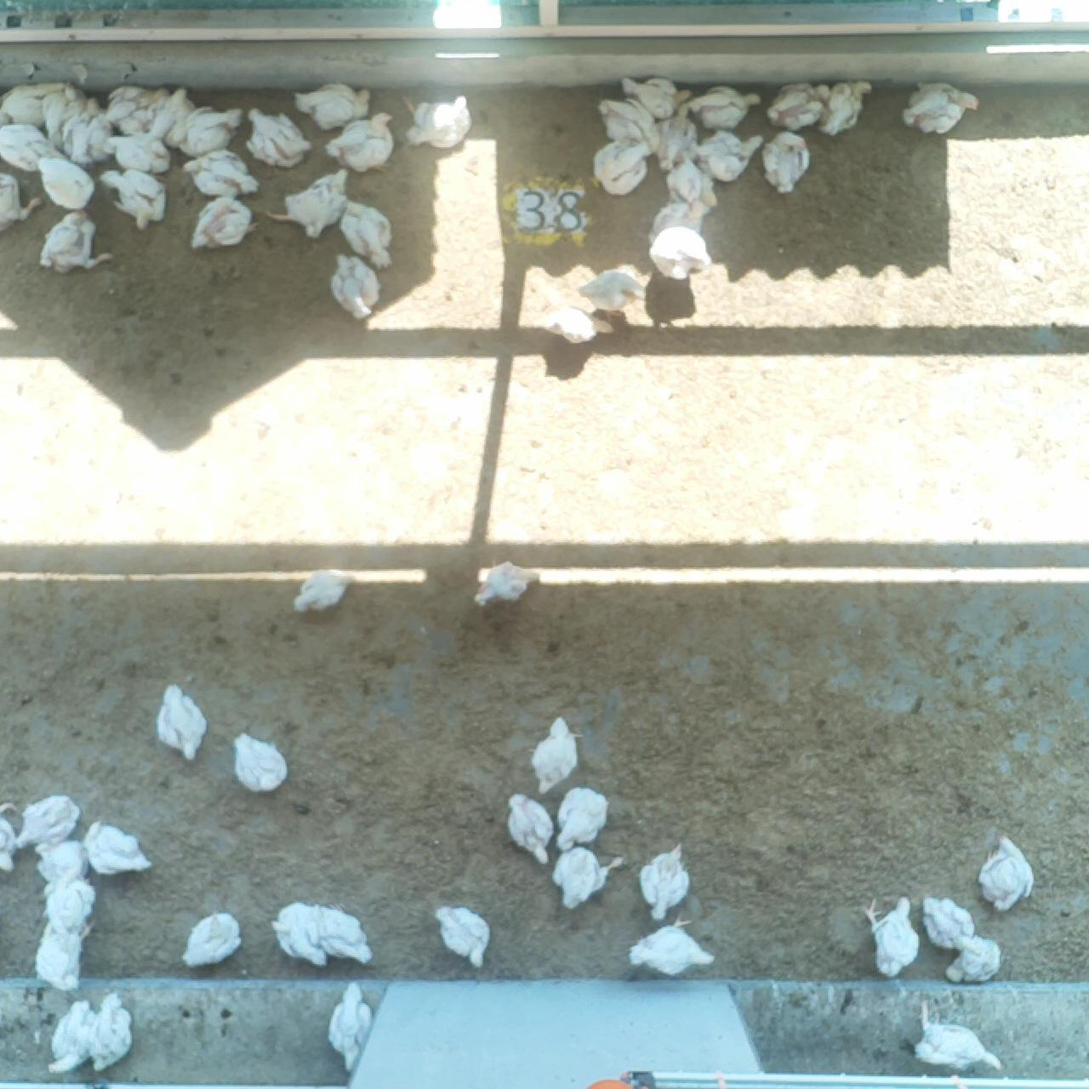chicken: (912, 1002, 1007, 1072), (624, 914, 718, 976), (278, 168, 350, 242), (152, 679, 215, 763), (638, 223, 718, 288), (397, 91, 483, 151), (865, 889, 922, 979), (551, 844, 624, 910), (905, 76, 982, 138), (307, 904, 381, 966), (974, 835, 1035, 910), (38, 213, 113, 274), (269, 900, 329, 975), (547, 783, 610, 854), (45, 992, 96, 1078), (325, 110, 395, 172), (326, 250, 383, 326), (243, 109, 316, 168), (639, 843, 694, 921), (327, 977, 371, 1072), (529, 716, 579, 799), (98, 171, 170, 228), (86, 818, 156, 876), (436, 904, 497, 970), (338, 203, 398, 269), (234, 728, 288, 801), (15, 793, 83, 850), (574, 270, 653, 319), (502, 793, 555, 866), (165, 103, 242, 153), (592, 137, 655, 198), (697, 127, 763, 185), (89, 985, 132, 1074), (812, 78, 876, 137), (540, 303, 617, 352), (37, 876, 95, 940), (190, 194, 260, 247), (183, 151, 261, 198), (468, 559, 542, 608), (295, 82, 375, 127), (689, 86, 762, 134), (181, 913, 241, 970), (37, 155, 97, 211), (762, 130, 813, 195), (654, 99, 698, 170), (620, 79, 698, 119), (292, 567, 355, 616), (922, 897, 976, 954), (66, 99, 113, 164), (0, 121, 58, 172), (769, 83, 831, 130), (34, 930, 80, 991), (663, 160, 719, 210), (599, 100, 656, 149), (1, 77, 63, 122), (41, 81, 85, 143), (35, 836, 89, 886), (146, 85, 193, 141), (109, 86, 158, 137), (947, 939, 1000, 985), (107, 133, 172, 170), (648, 202, 708, 240), (0, 173, 38, 229), (1, 802, 20, 874)
